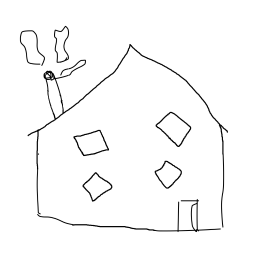door: (173, 195, 198, 236)
open_window: (148, 105, 205, 150), (69, 125, 118, 163), (74, 166, 117, 203), (152, 155, 187, 195)
single_line_roof: (18, 41, 252, 135)
smoking_chimney: (17, 20, 90, 119)
wall: (30, 123, 230, 236)
